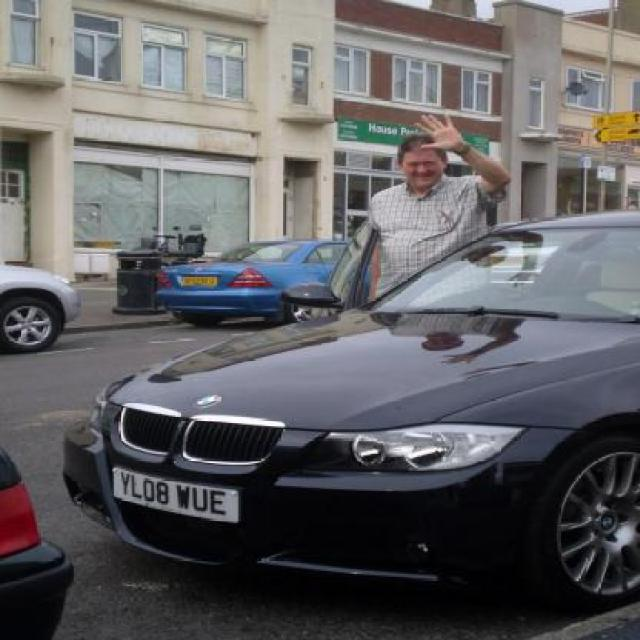License-Plates: (110, 463, 246, 528)
